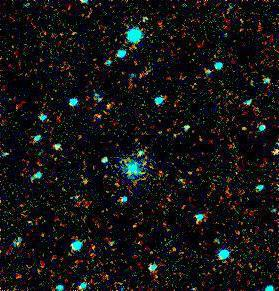star: (96, 86, 126, 116)
